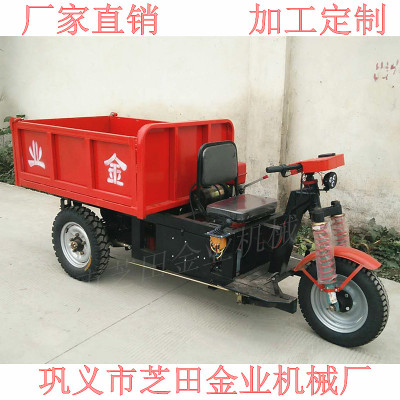tricycle: (9, 95, 388, 349)
